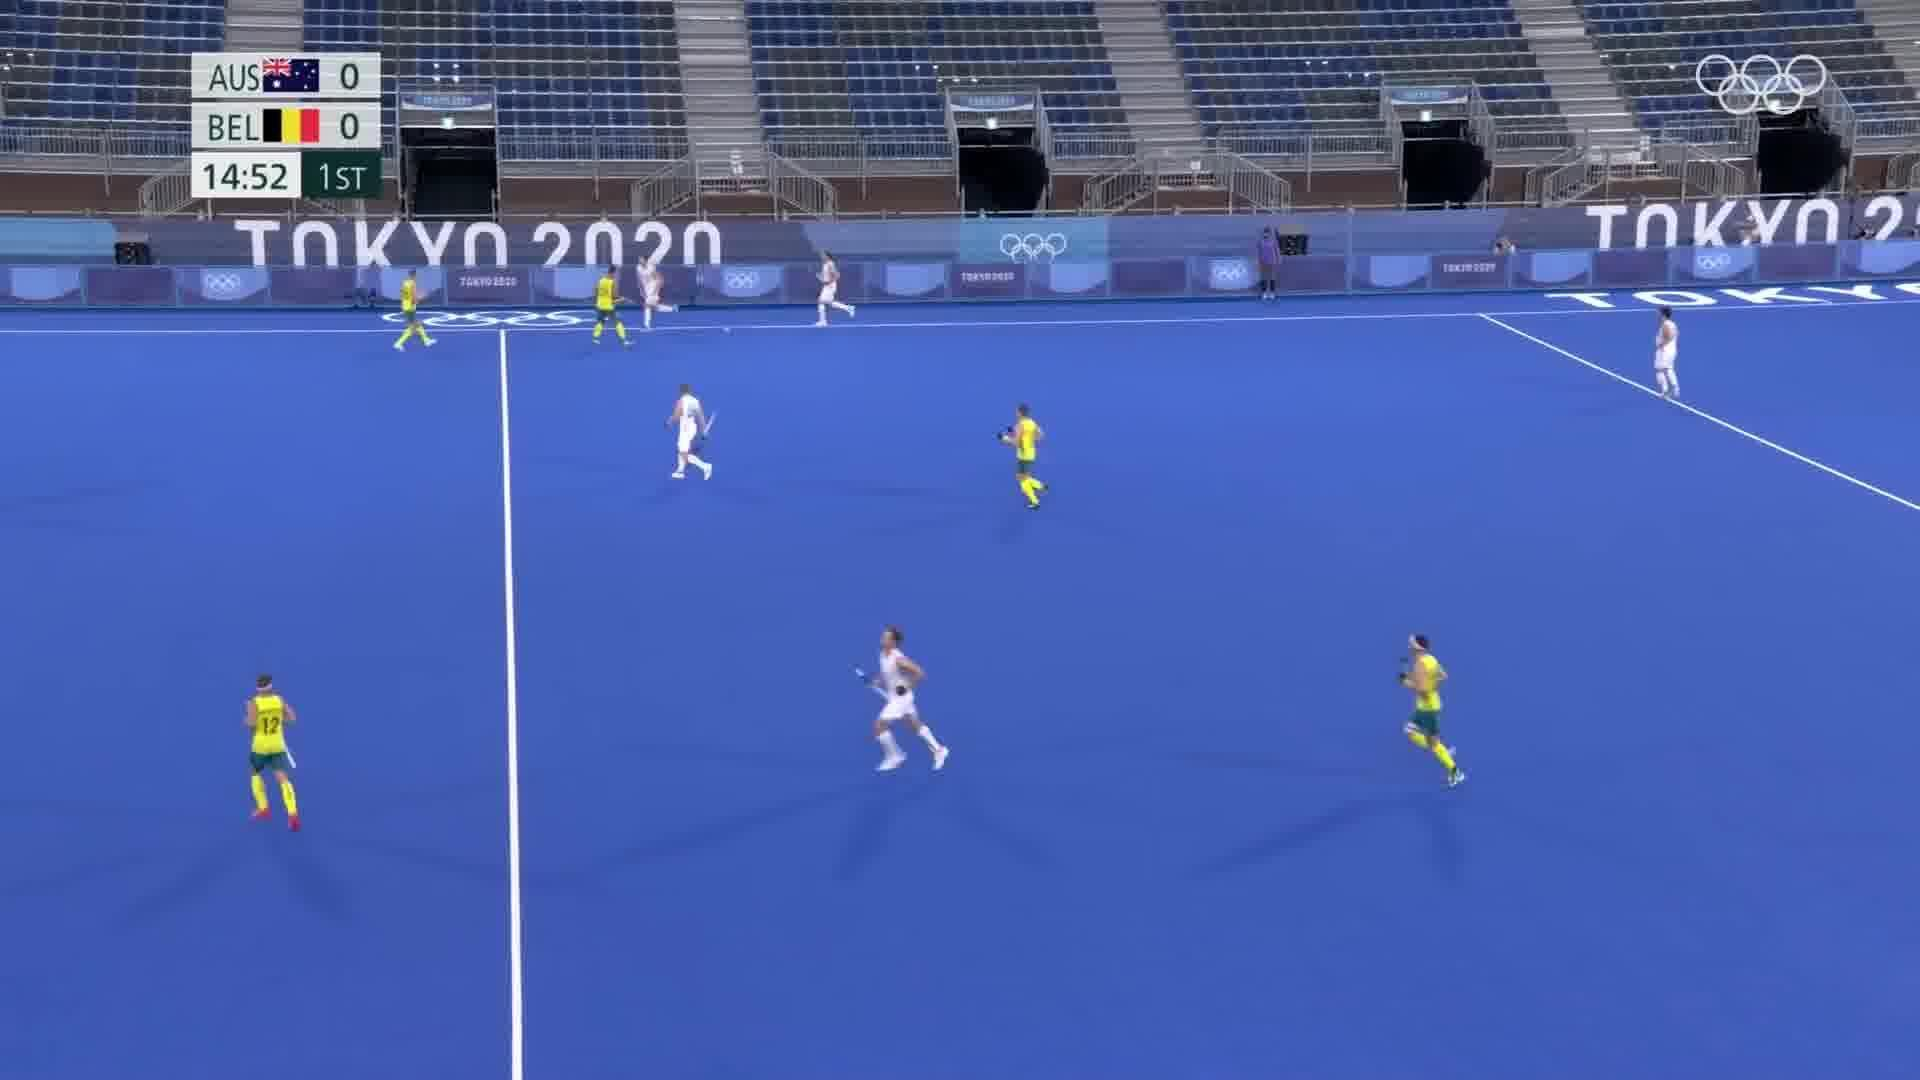ball: (713, 324, 738, 339)
